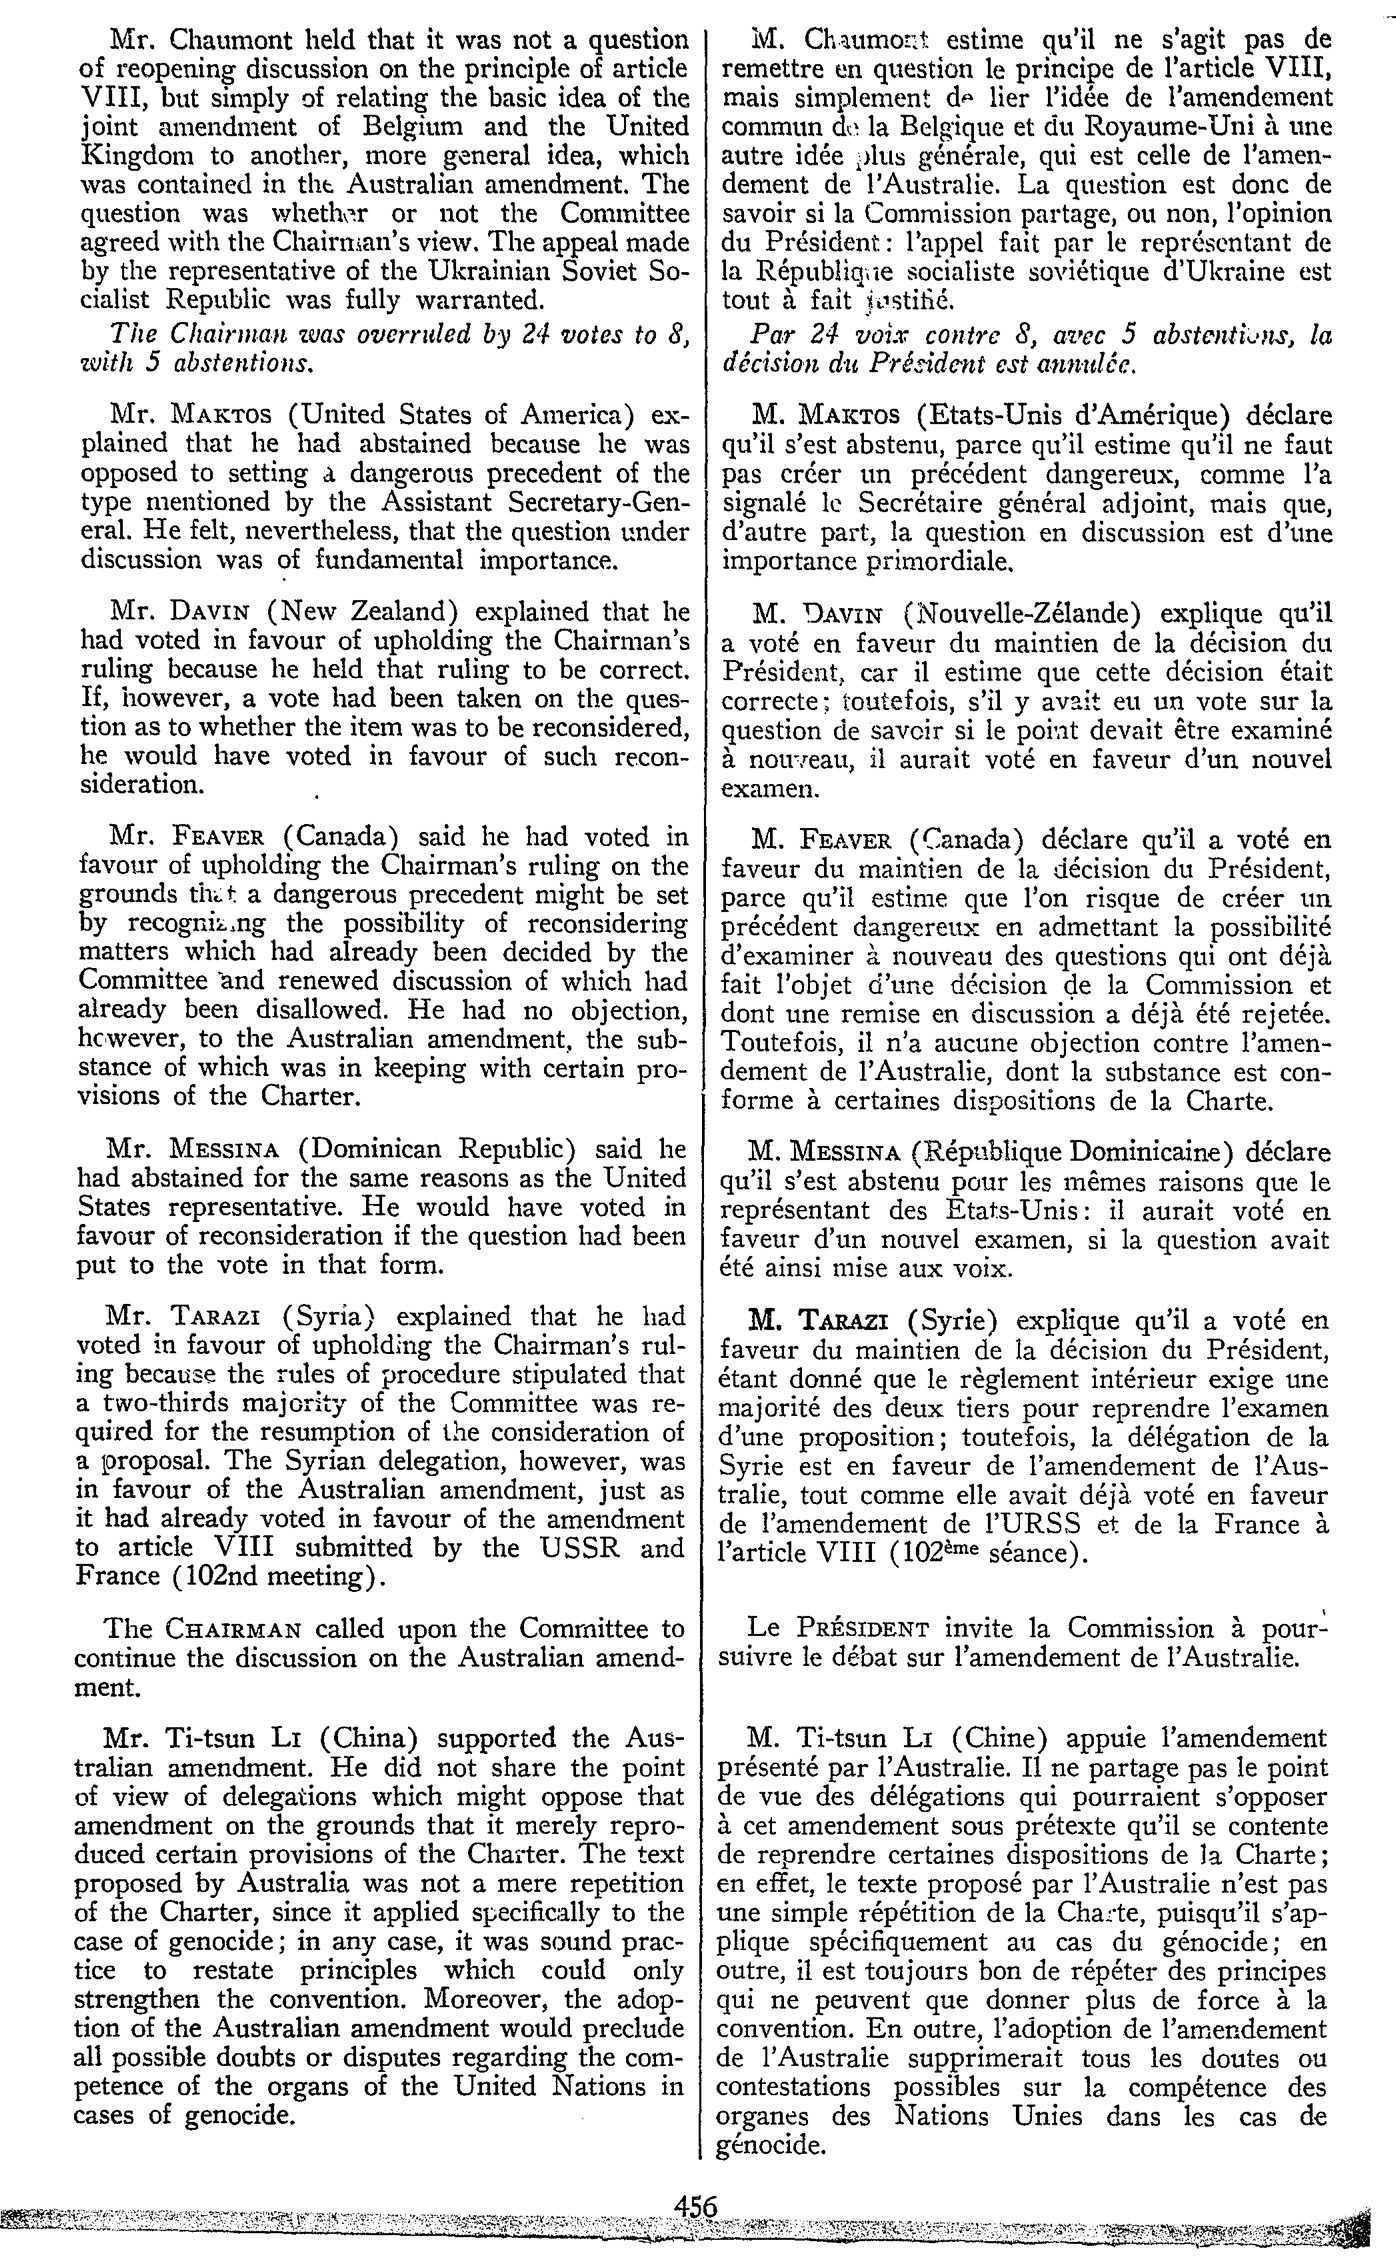MainZone-P: (709, 1717, 1338, 2164), (65, 1716, 693, 2140), (70, 816, 693, 1117), (68, 1296, 692, 1598), (716, 821, 1341, 1120), (71, 18, 696, 314), (716, 19, 1341, 316), (713, 1301, 1336, 1575), (73, 591, 696, 803), (716, 594, 1339, 806), (716, 395, 1343, 579), (73, 395, 696, 578), (70, 1130, 693, 1282), (714, 1133, 1338, 1284), (68, 1609, 690, 1704), (711, 1606, 1333, 1683), (716, 316, 1343, 382), (71, 316, 695, 382)
TitlePageZone: (666, 2187, 727, 2224)
